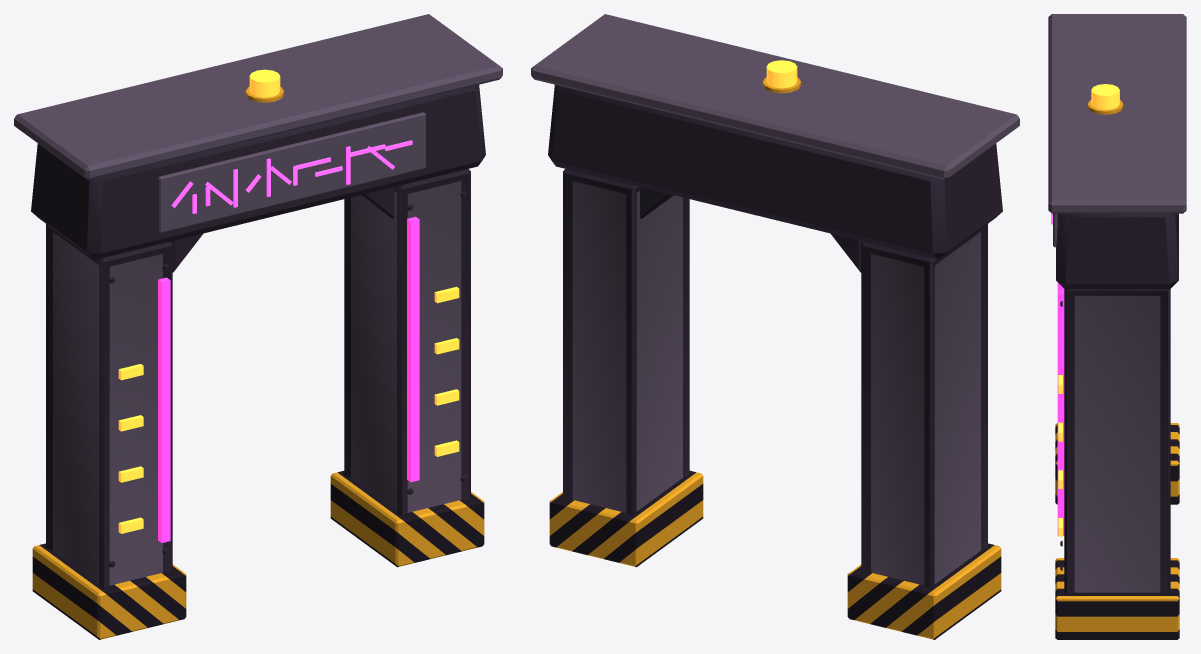
File: arch__lower.glb
The picture shows the model from 3 angles, left to right: view 1: azimuth 30°, elevation 25°; view 2: azimuth 150°, elevation 25°; view 3: azimuth 270°, elevation 25°; orthographic projection. The views are drawn at different scales.
Parts seen in each view (by area): view 1: Body; view 2: Body; view 3: Body.
Part boxes in pixels (x1,y1,x2,y2): Body: [14, 14, 502, 639]; Body: [531, 14, 1019, 639]; Body: [1048, 14, 1186, 639].
Bounding box in the file's own units: 1.88 × 2.14 × 0.58.
